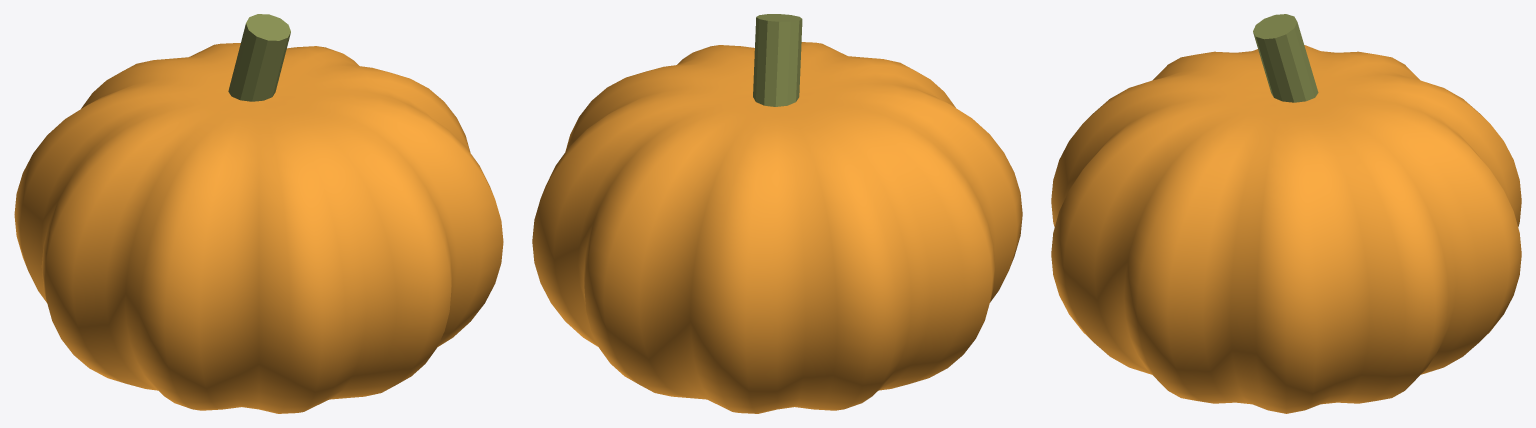
Rendered from pumpkin.glb.
3 views of the same model, side by side, from view 1: azimuth 30°, elevation 25°; view 2: azimuth 150°, elevation 25°; view 3: azimuth 270°, elevation 25° (orthographic).
Visible parts, largest first — view 1: Pumpkin; view 2: Pumpkin; view 3: Pumpkin.
Part boxes in pixels (x1,y1,x2,y2): Pumpkin: (14, 14, 503, 413); Pumpkin: (532, 14, 1022, 413); Pumpkin: (1051, 14, 1521, 413).
Bounding box in the file's own units: 0.749 × 0.5757 × 0.7171.
